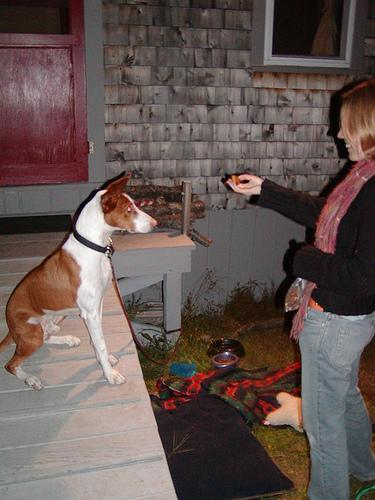Ibizan_hound: (1, 172, 157, 387)
